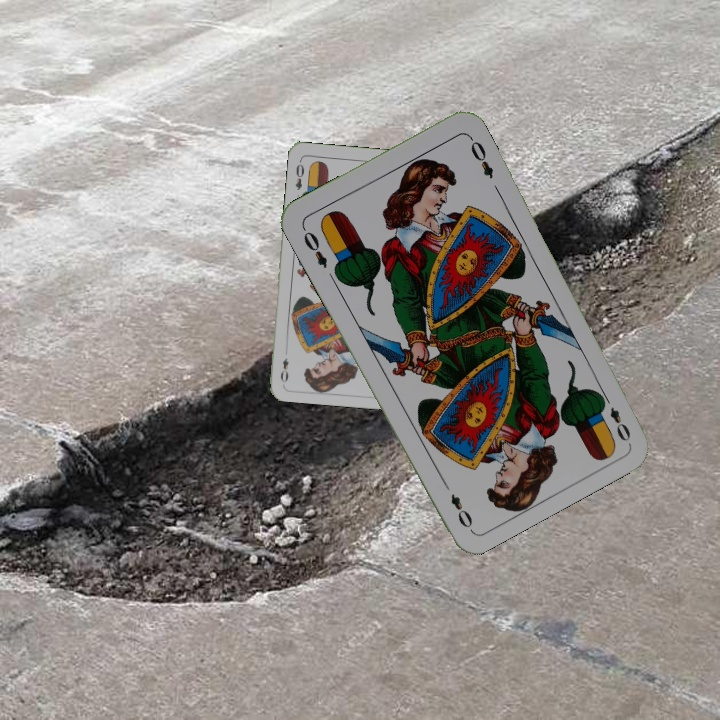EO: (597, 389, 633, 444), (298, 223, 330, 271), (291, 156, 307, 193)
